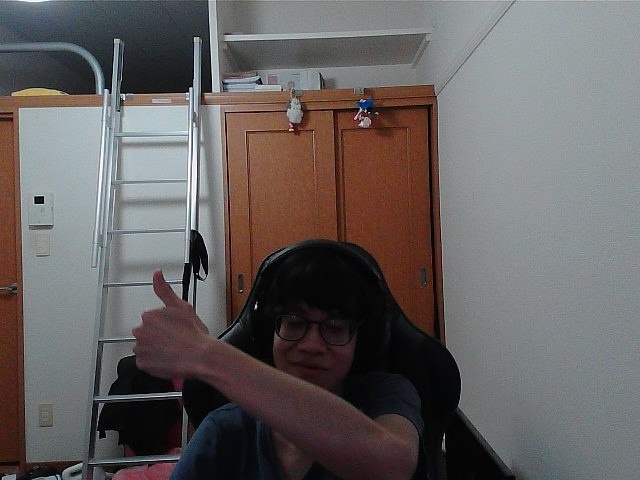thumb_up: (137, 275, 199, 364)
